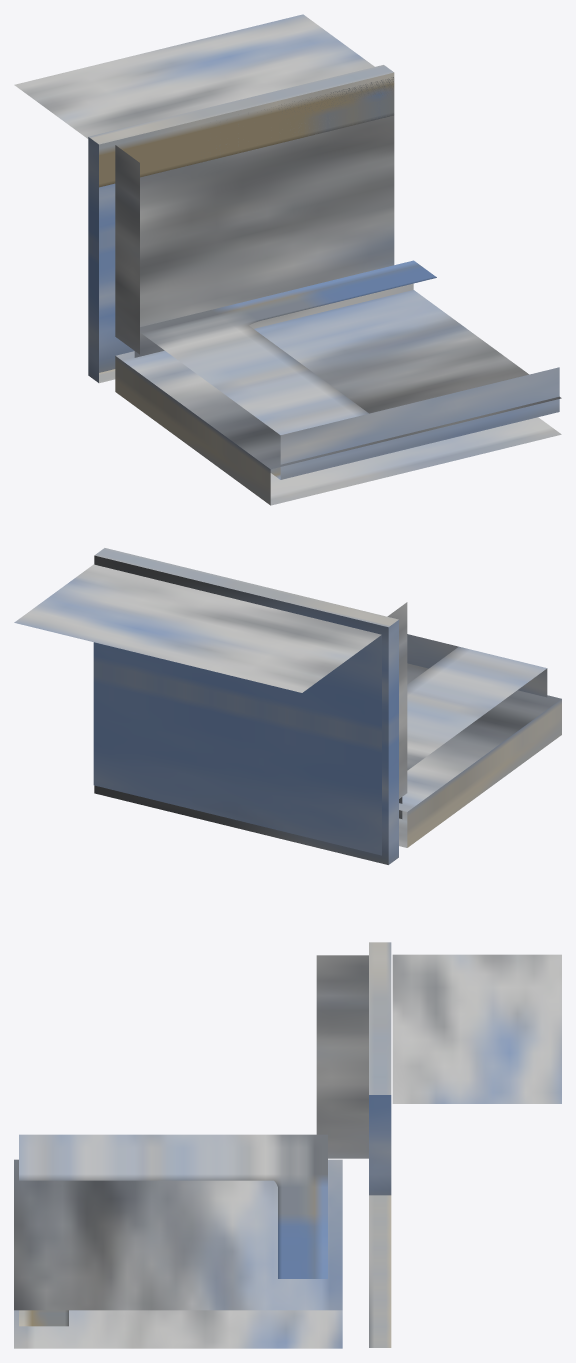
The model's file is section-2.obj.
The picture shows the model from 3 angles, top to bottom: view 1: azimuth 30°, elevation 25°; view 2: azimuth 150°, elevation 25°; view 3: azimuth 270°, elevation 25°; orthographic projection. The views are drawn at different scales.
Size of the model in its own units: 0.725 by 0.5615 by 1.1.
